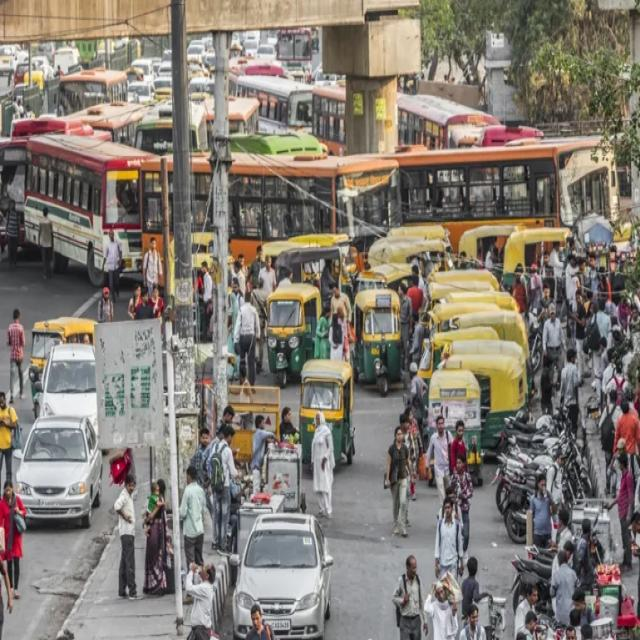Vehicles: (119, 136, 402, 341), (358, 121, 598, 291), (23, 116, 170, 309), (230, 495, 352, 640), (23, 286, 122, 428), (11, 403, 108, 532), (414, 312, 526, 423), (440, 342, 536, 452), (35, 348, 128, 461), (506, 224, 604, 327), (282, 336, 359, 464), (257, 262, 323, 394), (426, 289, 525, 374), (416, 255, 516, 336), (348, 226, 462, 296), (396, 90, 496, 158), (453, 213, 532, 297), (241, 66, 322, 145), (427, 361, 477, 468), (60, 65, 134, 126), (351, 275, 386, 398)
